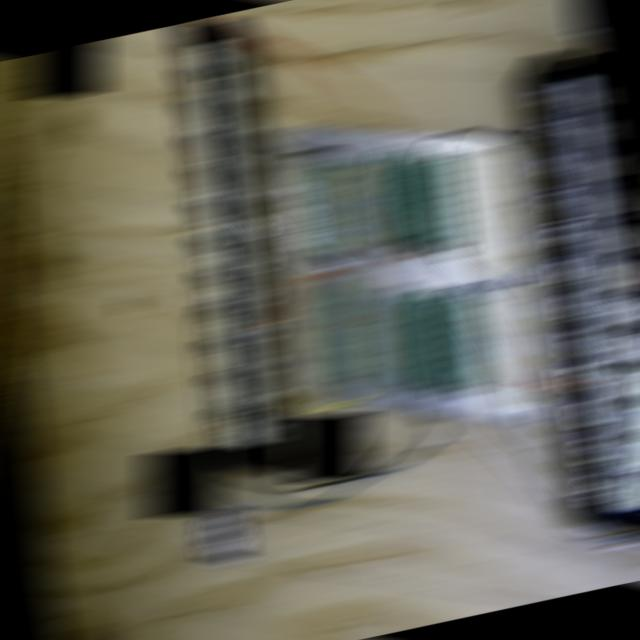Flathead_Block: (172, 15, 290, 479)
Phillips_Block: (533, 42, 640, 533)
Terminal_1: (322, 280, 366, 380), (307, 157, 350, 256)
Terminal_2: (444, 292, 488, 388), (397, 149, 441, 244), (383, 288, 427, 383), (369, 148, 412, 244), (414, 291, 457, 386)
